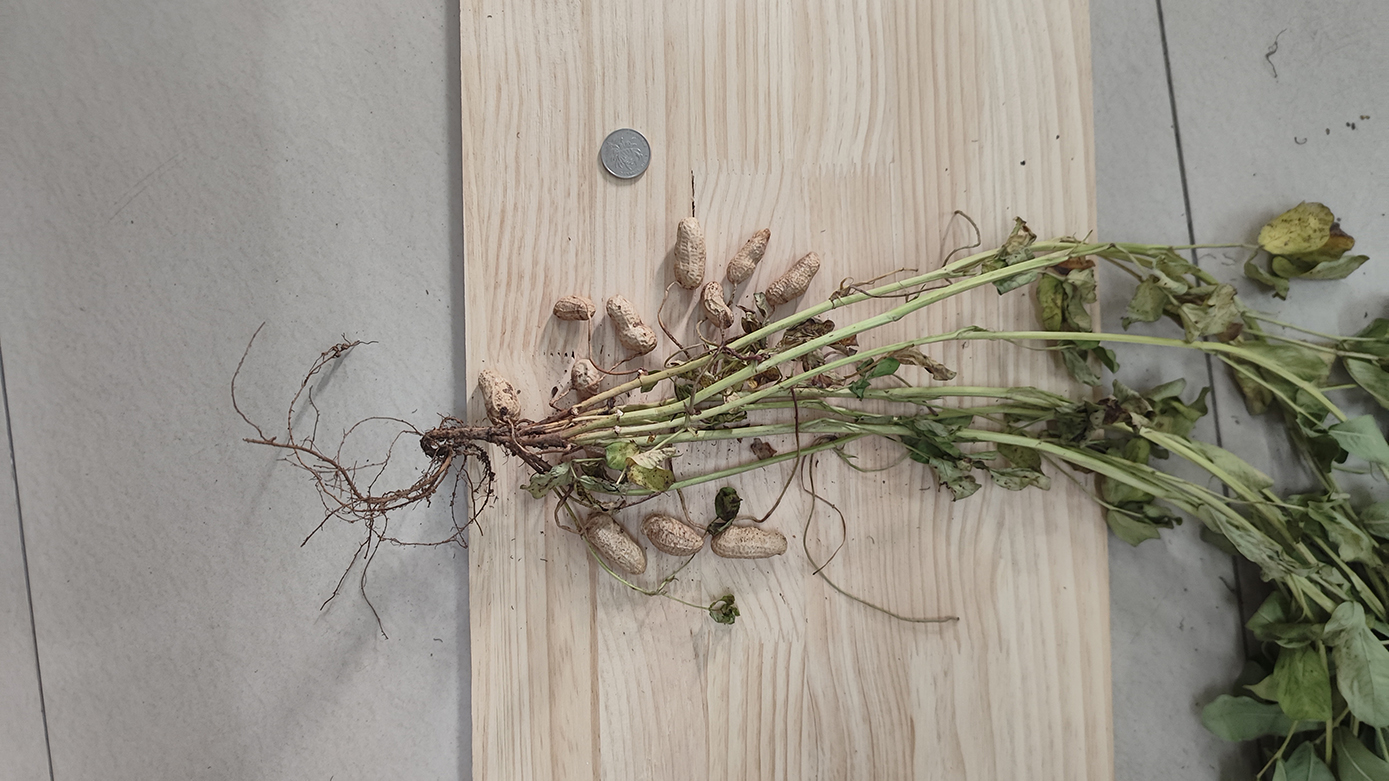h: (584, 514, 645, 571), (764, 254, 821, 307), (606, 295, 658, 352), (724, 227, 772, 284), (713, 524, 787, 559), (477, 369, 523, 425), (644, 513, 703, 556), (674, 219, 708, 286), (702, 282, 734, 329), (552, 294, 594, 323), (569, 359, 602, 394)
